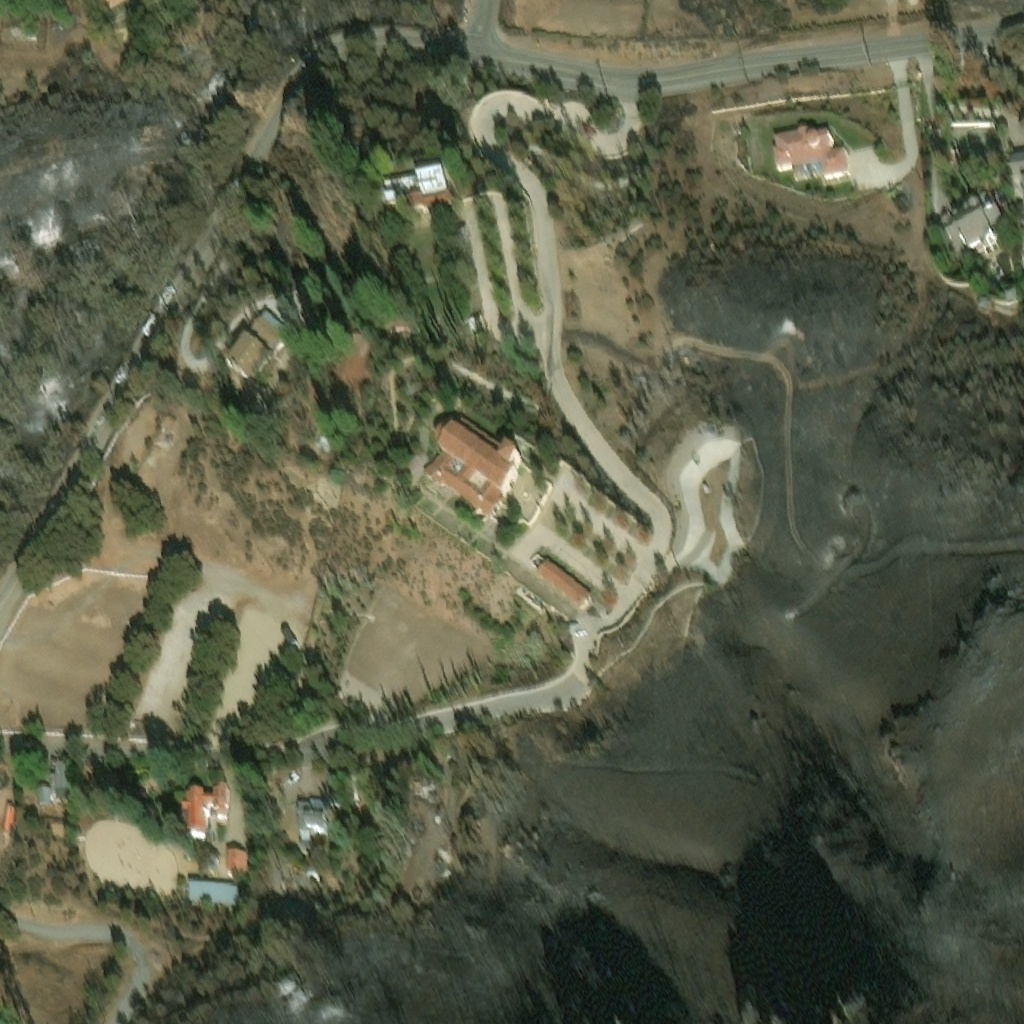0 no-damage: (422, 416, 523, 516), (226, 307, 290, 375), (772, 125, 848, 173), (936, 193, 1003, 246), (322, 325, 369, 393), (534, 556, 590, 603), (181, 779, 228, 834), (385, 167, 447, 208), (296, 796, 329, 827), (48, 757, 73, 797), (186, 876, 238, 895), (411, 191, 451, 210), (224, 843, 245, 866), (1013, 157, 1023, 200), (0, 801, 15, 828), (280, 624, 296, 643), (296, 826, 310, 847), (409, 779, 428, 792), (37, 785, 50, 803), (279, 871, 293, 886), (290, 862, 316, 870), (1004, 287, 1015, 297), (978, 297, 987, 308)
4 un-classified: (138, 771, 154, 787), (454, 224, 468, 239)
